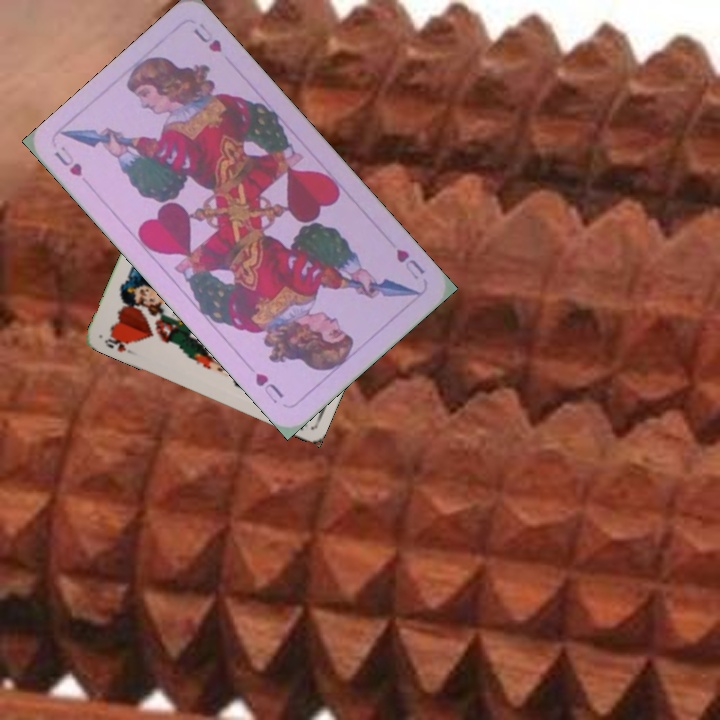HO: (100, 330, 135, 354)
HU: (391, 244, 427, 283), (50, 142, 87, 179)
